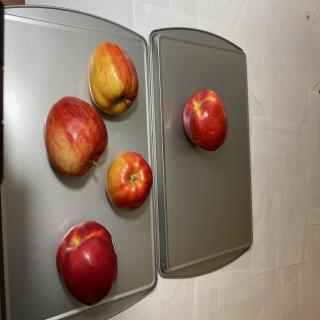Apple: (56, 220, 118, 306), (43, 96, 108, 178), (88, 40, 139, 114), (105, 150, 153, 212), (182, 88, 228, 152)
